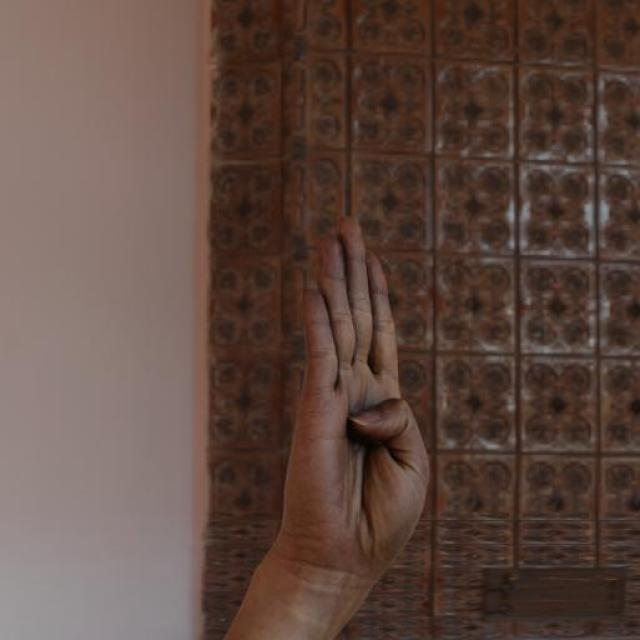B: (294, 218, 436, 580)
